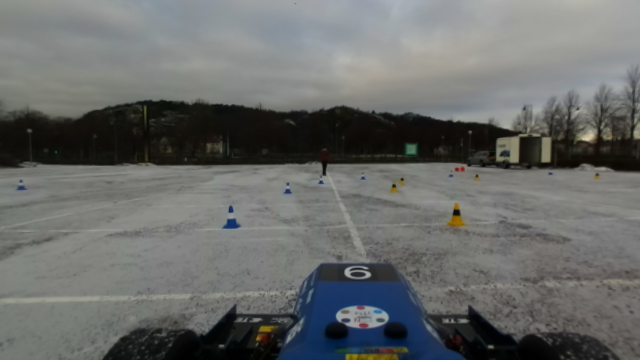blue: (221, 204, 241, 229)
yellow: (446, 201, 468, 231)
